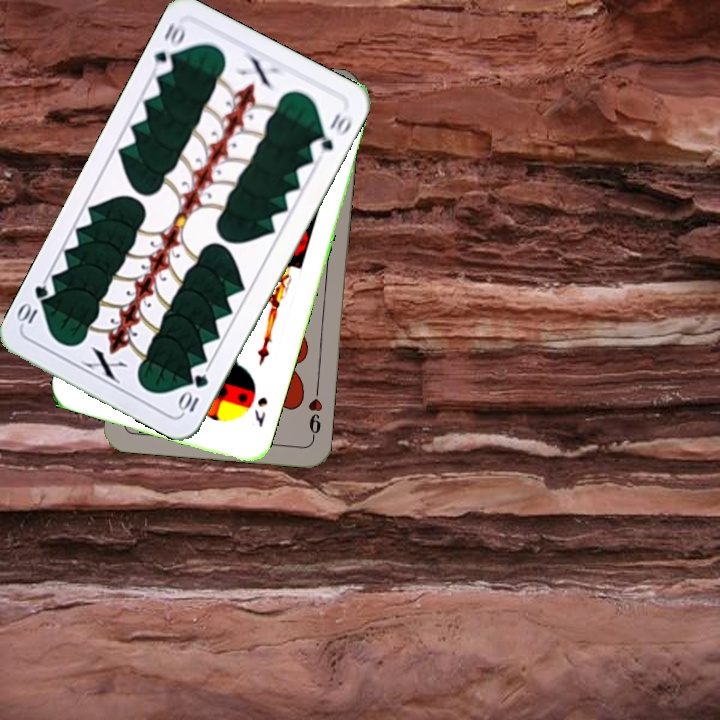G10: (150, 18, 189, 78), (175, 370, 211, 416)
H9: (304, 383, 325, 442)
SK: (250, 392, 270, 431)
